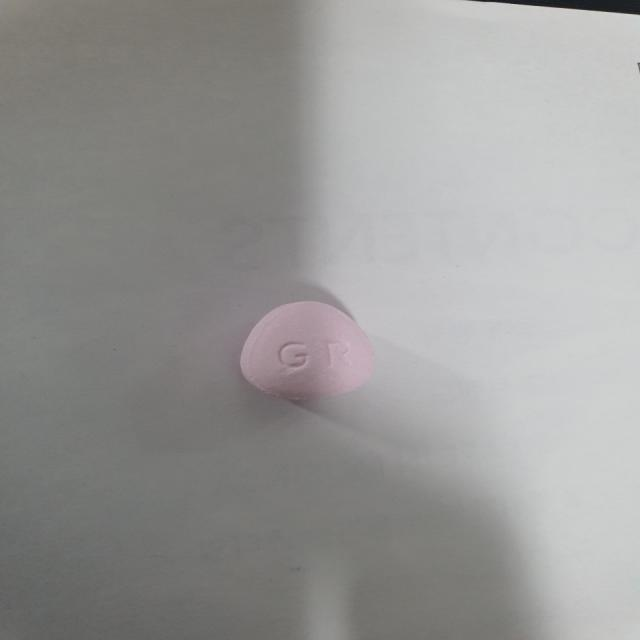pill: (229, 286, 388, 416)
